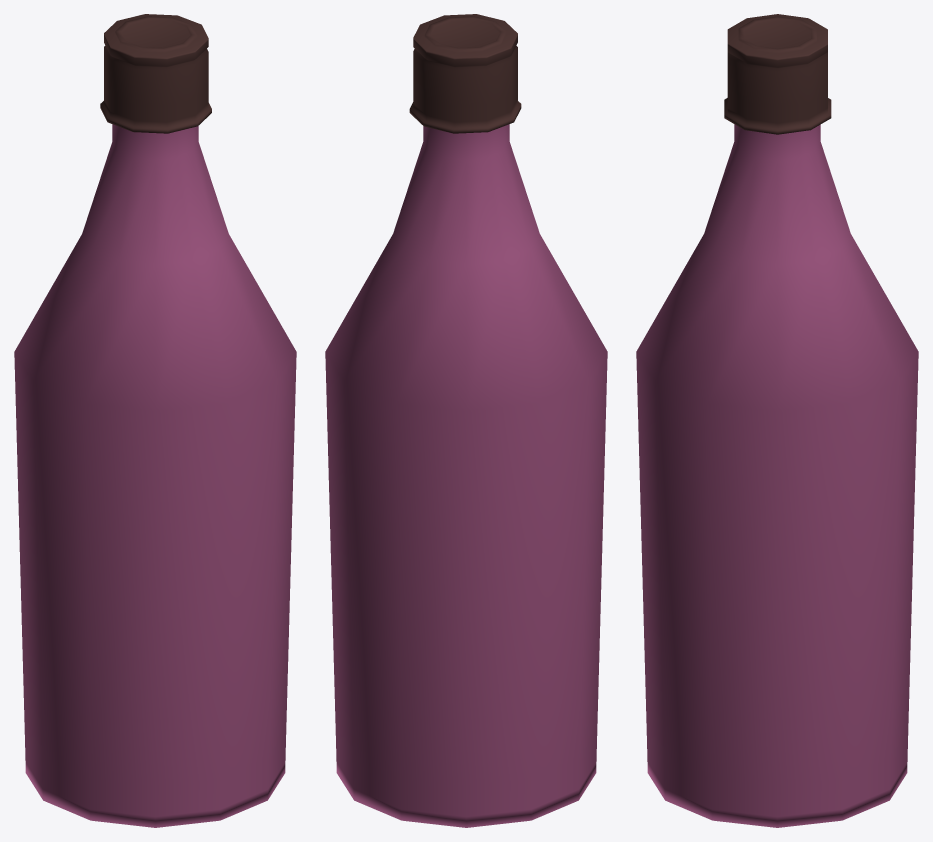
The model's file is Kitchen_set_Kitchen_set_Kitchen_set_Props_grp_Kitchen_set_North_grp_Kitchen_set_NorthWall_grp_Kitchen_set_BottleLargeRose_1.obj.
The picture shows the model from 3 angles, left to right: view 1: azimuth 30°, elevation 25°; view 2: azimuth 150°, elevation 25°; view 3: azimuth 270°, elevation 25°; orthographic projection.
Visible parts, largest first — view 1: Kitchen_set_pCylinder563 NCCA_Export, NCCA_Export Kitchen_set_pCylinder564; view 2: Kitchen_set_pCylinder563 NCCA_Export, NCCA_Export Kitchen_set_pCylinder564; view 3: Kitchen_set_pCylinder563 NCCA_Export, NCCA_Export Kitchen_set_pCylinder564.
Part boxes in pixels (<box>): Kitchen_set_pCylinder563 NCCA_Export: <box>14,124,296,827</box>; NCCA_Export Kitchen_set_pCylinder564: <box>100,14,211,133</box>; Kitchen_set_pCylinder563 NCCA_Export: <box>325,124,607,827</box>; NCCA_Export Kitchen_set_pCylinder564: <box>409,14,521,133</box>; Kitchen_set_pCylinder563 NCCA_Export: <box>636,124,918,827</box>; NCCA_Export Kitchen_set_pCylinder564: <box>724,14,831,134</box>.
Size of the model in its own units: 0.346 by 1 by 0.346.
